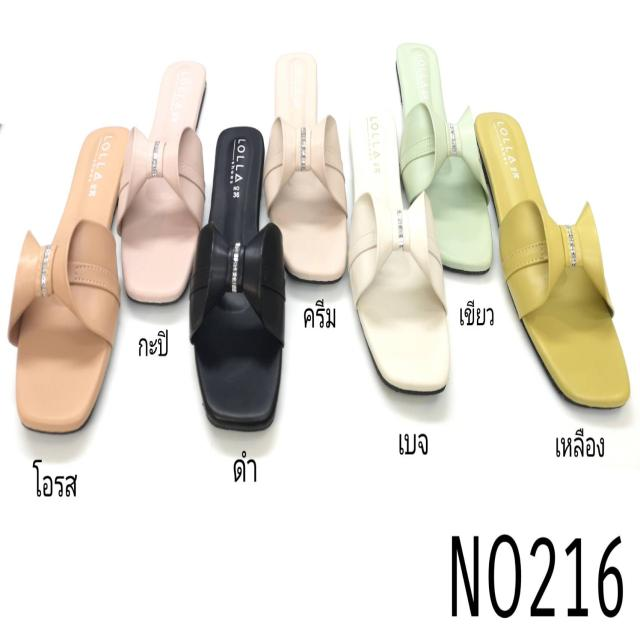bej: (333, 66, 458, 414)
black: (185, 82, 286, 465)
cream: (260, 3, 346, 301)
green: (384, 28, 488, 282)
kapi: (119, 18, 223, 330)
orot: (6, 55, 134, 449)
yellow: (468, 82, 629, 420)
